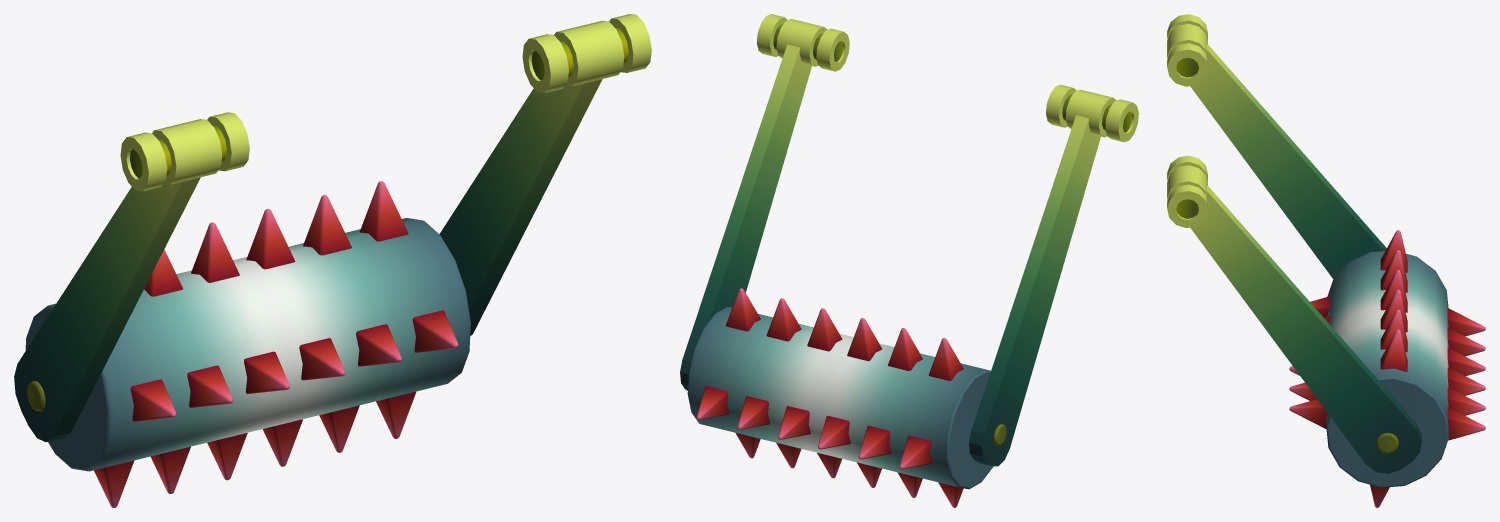
Rendered from obstacle1.fbx.
The picture shows the model from 3 angles, left to right: view 1: azimuth 30°, elevation 25°; view 2: azimuth 150°, elevation 25°; view 3: azimuth 270°, elevation 25°; orthographic projection. The views are drawn at different scales.
Visible parts, largest first — view 1: Cylinder.039_Color_Pallete_0, Watermelon.001_Color_Pallete_0; view 2: Cylinder.039_Color_Pallete_0, Watermelon.001_Color_Pallete_0; view 3: Watermelon.001_Color_Pallete_0, Cylinder.039_Color_Pallete_0.
Boxes of the visible parts, x1,y1,x2,y2 form: Cylinder.039_Color_Pallete_0: (25,181,470,507); Watermelon.001_Color_Pallete_0: (14,14,651,442); Cylinder.039_Color_Pallete_0: (687,288,1006,507); Watermelon.001_Color_Pallete_0: (680,14,1138,466); Watermelon.001_Color_Pallete_0: (1167,14,1421,473); Cylinder.039_Color_Pallete_0: (1289,230,1485,507).
Size of the model in its own units: 264 by 247 by 201.
